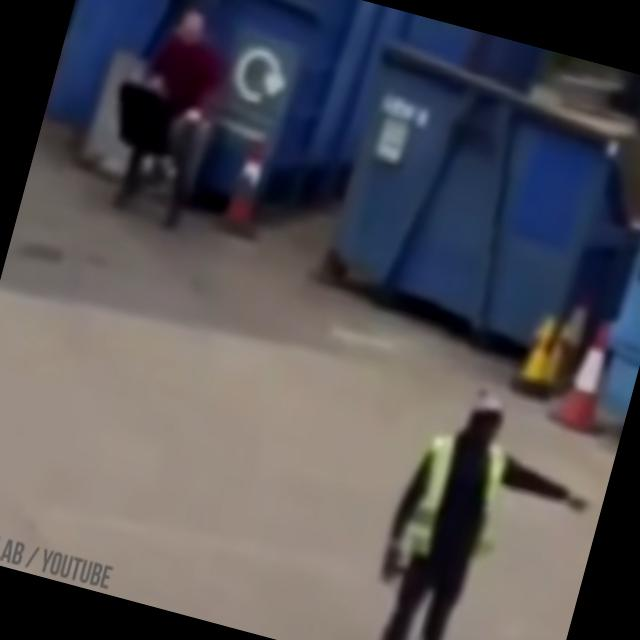person: (353, 375, 608, 640), (107, 0, 240, 231)
